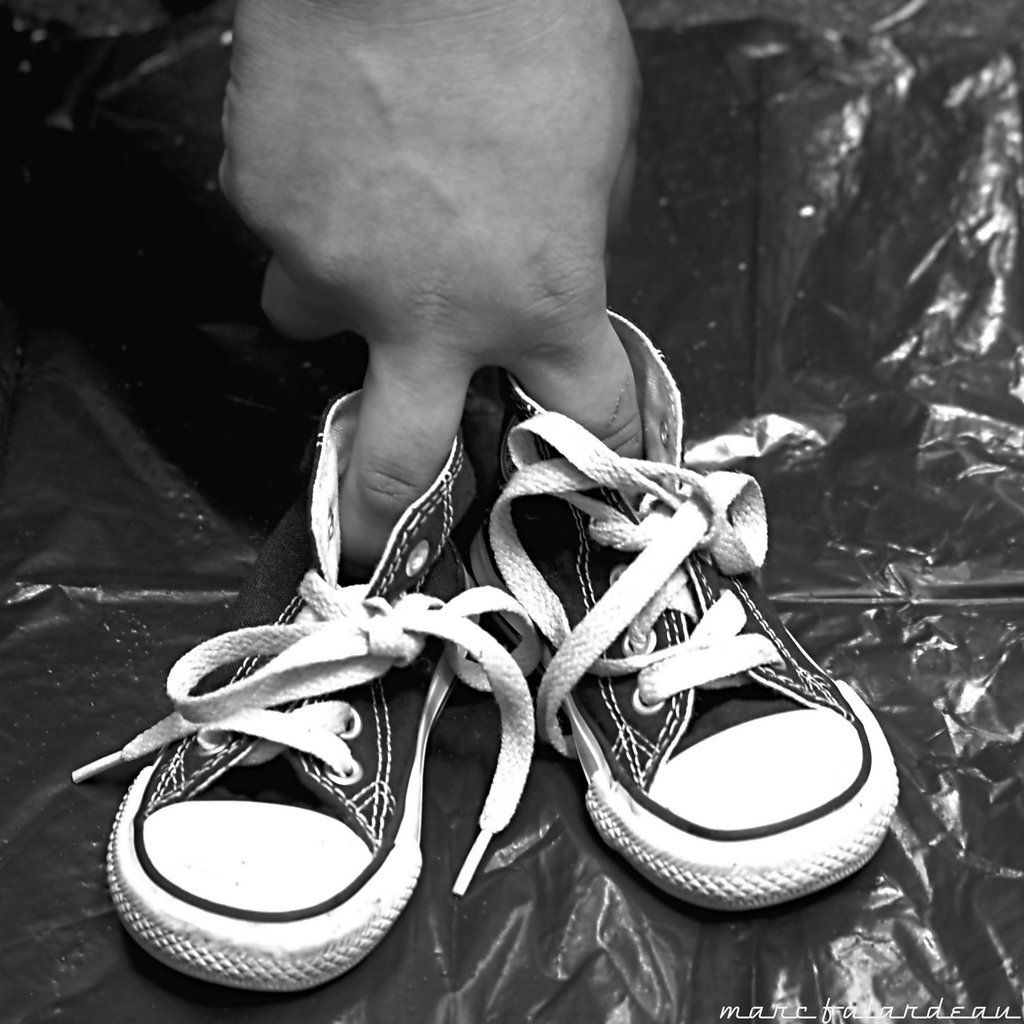Human_hand: (199, 0, 696, 452)
